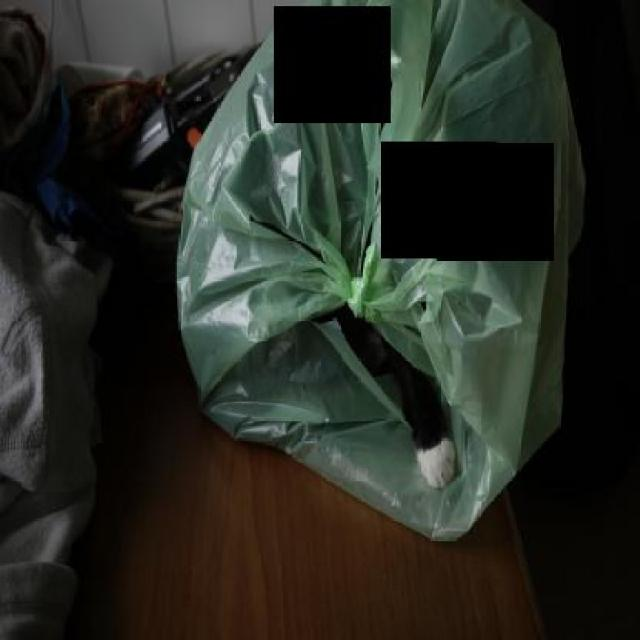plastic bag: (175, 0, 586, 535)
